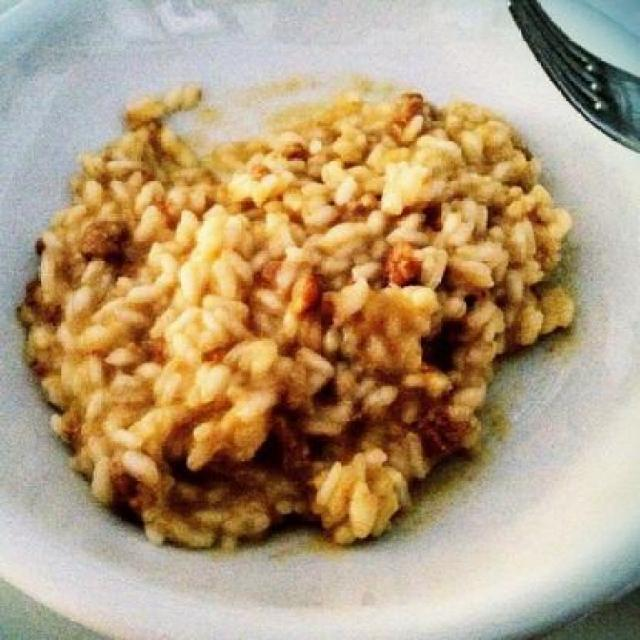Risotto: (44, 66, 564, 552)
